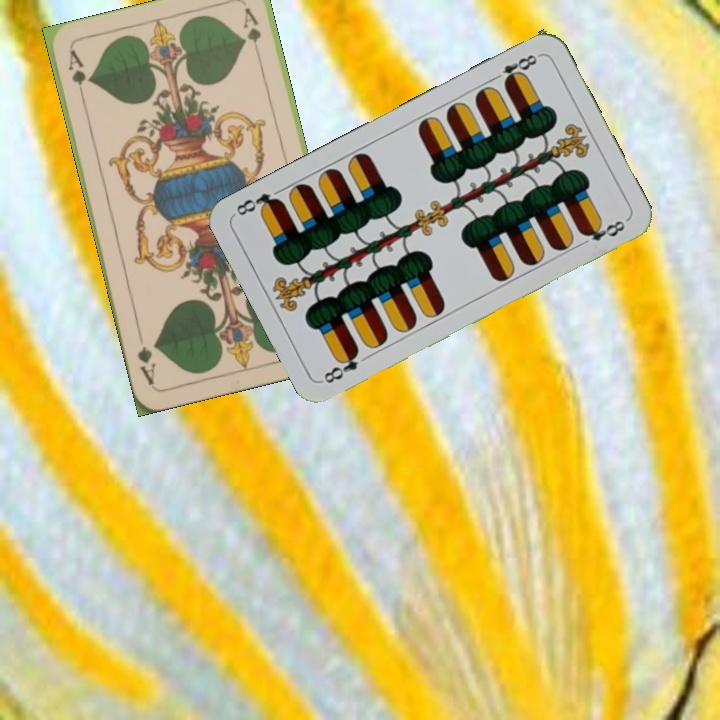E8: (487, 48, 542, 88), (320, 345, 362, 386)
GA: (64, 46, 89, 105)
